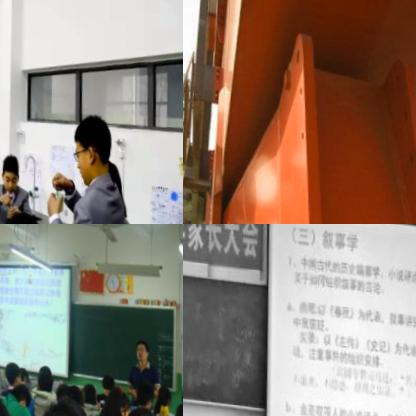head: (70, 103, 111, 180), (36, 386, 89, 416), (130, 369, 155, 407), (104, 379, 129, 416), (0, 204, 44, 224), (0, 146, 17, 189), (31, 364, 54, 395), (121, 399, 161, 416), (8, 376, 28, 406), (67, 377, 85, 410), (3, 354, 20, 385), (153, 377, 170, 403), (133, 331, 147, 360), (82, 372, 96, 399), (14, 361, 30, 384), (54, 375, 70, 398), (98, 364, 114, 387), (170, 393, 183, 416), (179, 377, 183, 405)
